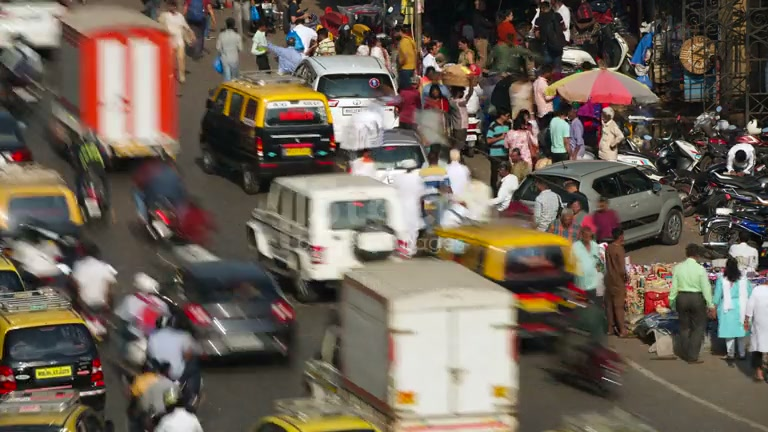car: (244, 171, 422, 302), (151, 242, 299, 367), (198, 74, 339, 194), (498, 158, 685, 248), (0, 291, 110, 430), (290, 54, 403, 152), (0, 160, 88, 240), (0, 110, 33, 165)
motorcycle: (126, 326, 205, 429), (543, 321, 627, 399), (696, 193, 768, 265)
pedestrian: (670, 243, 713, 365), (713, 257, 754, 363), (602, 227, 631, 338), (158, 1, 195, 84), (744, 271, 768, 383), (150, 386, 204, 432), (504, 109, 538, 179), (486, 110, 512, 192), (216, 19, 243, 81), (533, 179, 561, 234), (597, 107, 625, 162), (549, 104, 573, 163), (251, 23, 271, 72)
truck: (303, 256, 524, 427), (44, 2, 183, 171)
